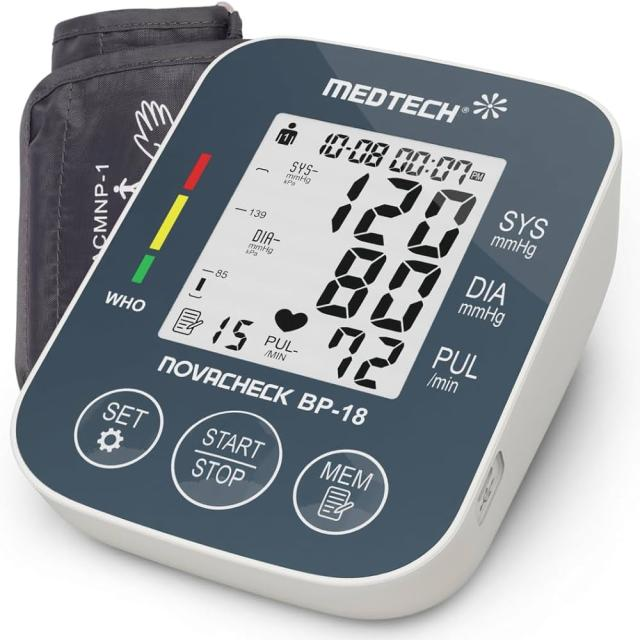dia: (300, 234, 453, 345)
pul: (303, 315, 414, 400)
ssd: (159, 61, 503, 435)
sys: (312, 159, 488, 270)
